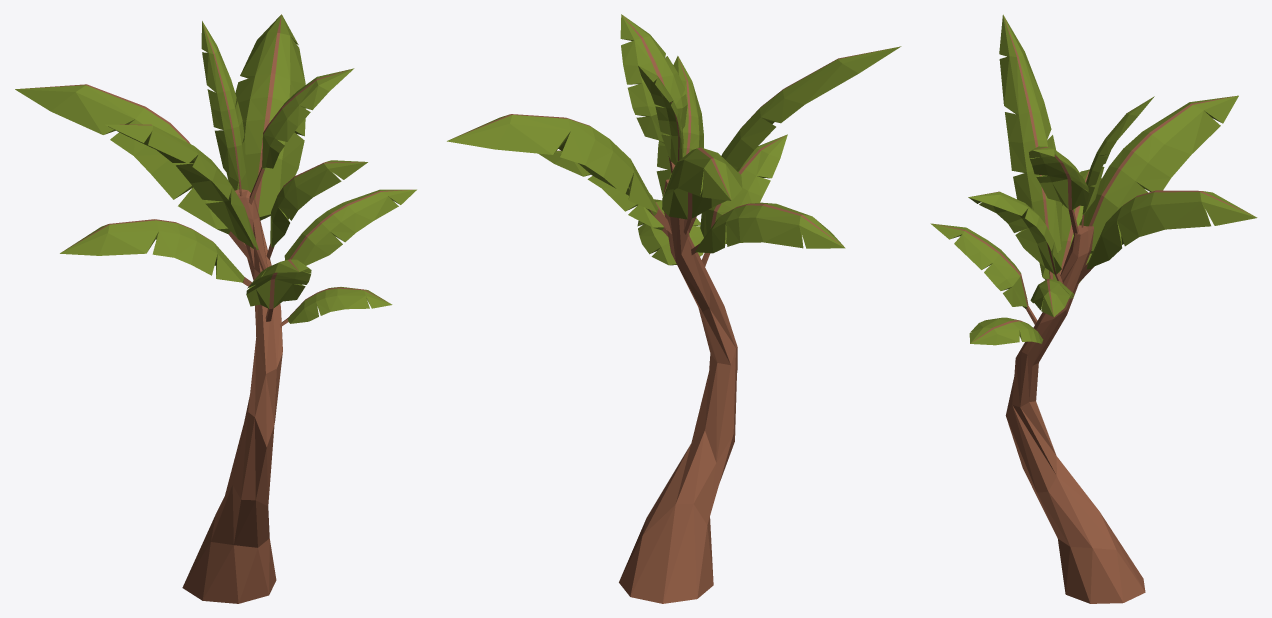
File: Palm Tree_1_5.fbx
The picture shows the model from 3 angles, left to right: view 1: azimuth 30°, elevation 25°; view 2: azimuth 150°, elevation 25°; view 3: azimuth 270°, elevation 25°; orthographic projection. The views are drawn at different scales.
Parts seen in each view (by area): view 1: Palm Tree_1_5; view 2: Palm Tree_1_5; view 3: Palm Tree_1_5.
Boxes of the visible parts, box(x1,y1,x2,y2) form: Palm Tree_1_5: box(15, 14, 416, 603); Palm Tree_1_5: box(447, 14, 901, 603); Palm Tree_1_5: box(930, 14, 1257, 603).
Size of the model in its own units: 4.02 by 6.13 by 3.7.
